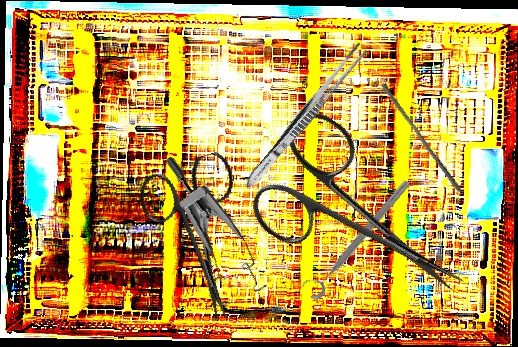Dressing Forceps: (240, 38, 371, 193)
Fixation Ring: (298, 171, 414, 303)
Iris Scissors: (234, 102, 498, 339), (132, 149, 271, 333)
Pusher: (376, 82, 468, 194)
Speculum: (118, 154, 289, 320)
